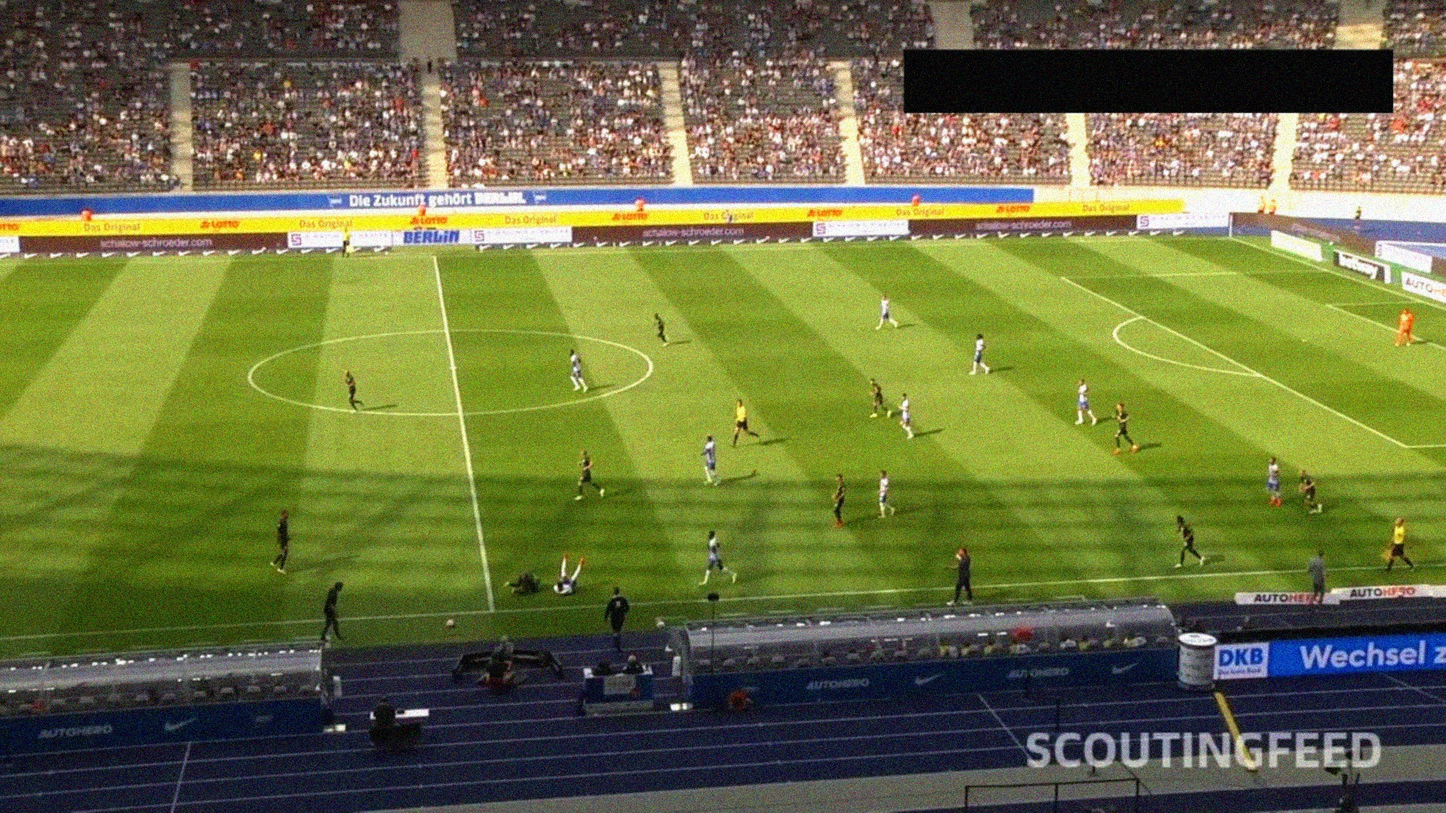ball: (444, 617, 456, 629), (657, 617, 667, 630)
goalkeeper: (1392, 307, 1416, 348)
player: (700, 525, 740, 590), (1169, 510, 1208, 571), (569, 449, 609, 503), (266, 505, 295, 578), (692, 431, 726, 489), (548, 550, 587, 597), (1109, 398, 1139, 456), (827, 470, 850, 536), (874, 470, 900, 522), (1298, 466, 1324, 517), (1074, 376, 1099, 429), (563, 346, 590, 395), (340, 367, 368, 414), (503, 568, 544, 598), (1263, 456, 1286, 509), (968, 331, 993, 377), (867, 379, 893, 422), (874, 291, 901, 332), (895, 389, 915, 440), (651, 311, 672, 349)
referee: (1382, 516, 1415, 574), (728, 397, 761, 449), (340, 226, 354, 259)
